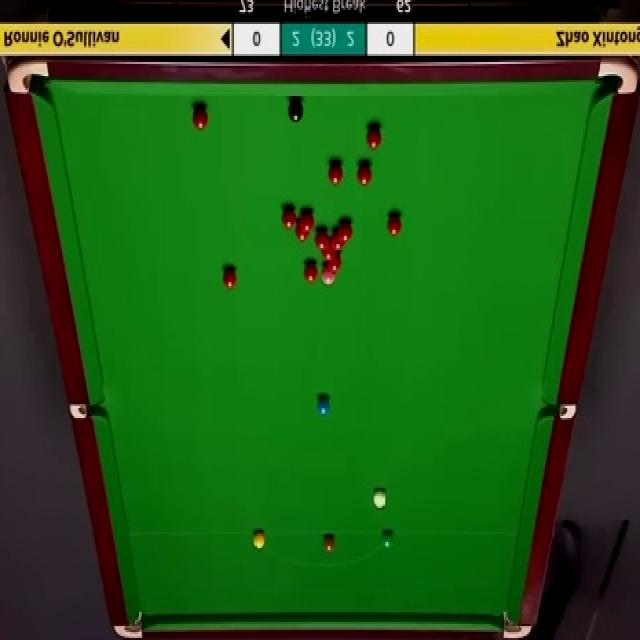black-ball: (288, 98, 304, 126)
blue-ball: (316, 393, 330, 418)
brown-ball: (322, 534, 334, 552)
green-ball: (382, 530, 393, 550)
pink-ball: (321, 269, 337, 286)
red-ball: (192, 105, 210, 130), (365, 124, 382, 150), (303, 259, 319, 285), (356, 163, 372, 186), (300, 211, 316, 233), (328, 163, 344, 185), (339, 220, 353, 244), (388, 214, 403, 236), (222, 268, 236, 291), (282, 208, 296, 230), (314, 232, 329, 250), (331, 233, 346, 250), (295, 226, 309, 244), (320, 248, 338, 261), (326, 260, 344, 271)
white-ball: (372, 487, 387, 510)
yellow-ball: (252, 530, 267, 551)
